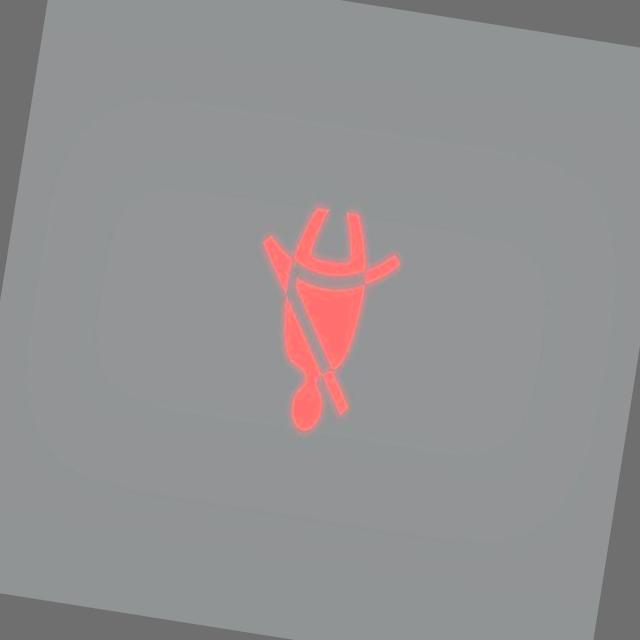kontrolka: (195, 143, 442, 482)
